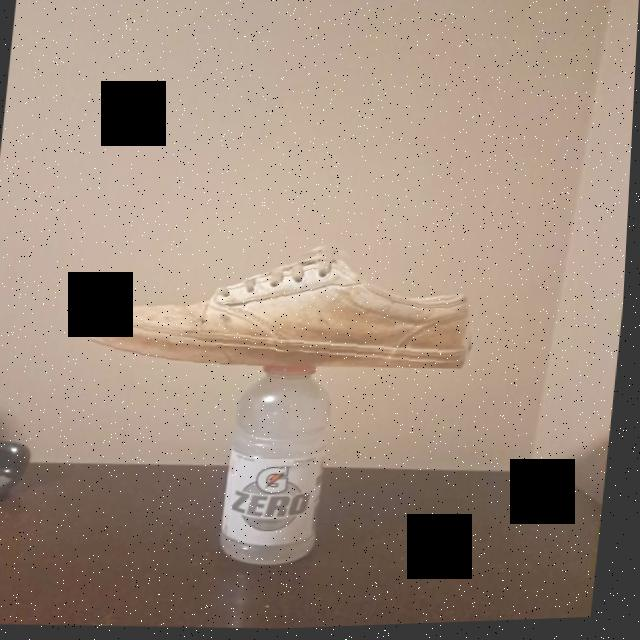shoe: (80, 228, 488, 385)
